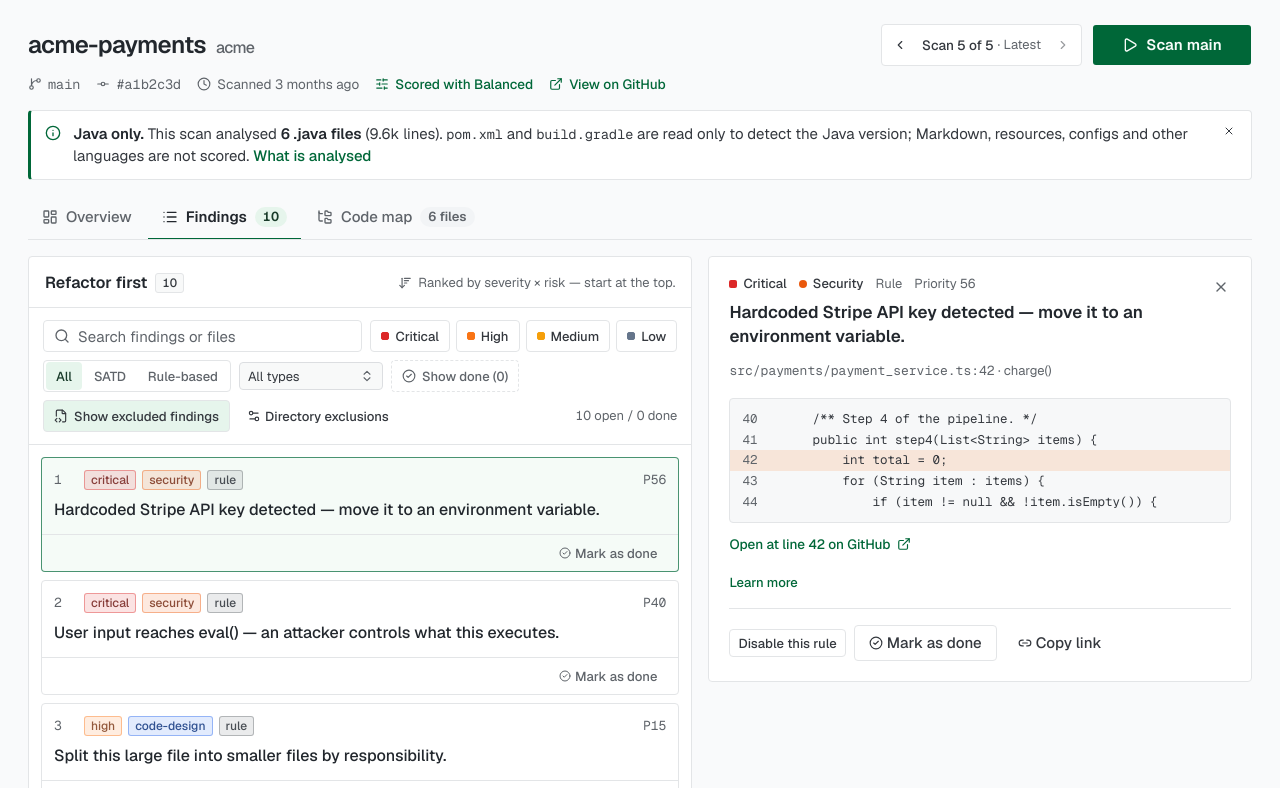
Test: closing detail expands the findings panel
Expected: the element named "Finding detail" is shown, [708, 256, 1252, 682]
Click the button named "close finding detail" at (1221,287), box [1205, 271, 1237, 303]
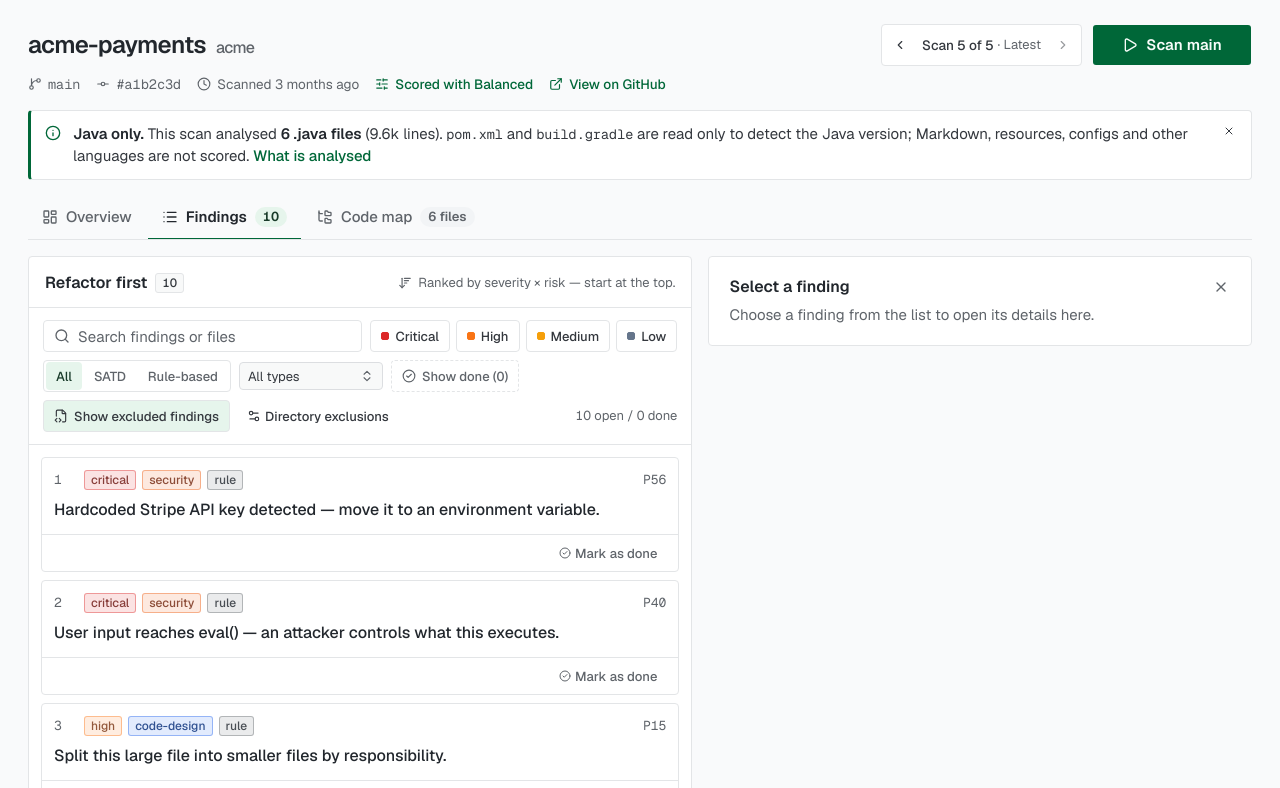
Result: the heading "Select a finding" is shown at [729, 276, 850, 297]
